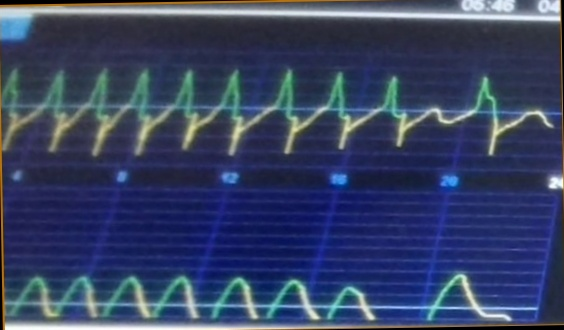Ineffective_effort Flow: (3, 60, 552, 161)
Ineffective_effort Volume: (8, 254, 514, 322)
